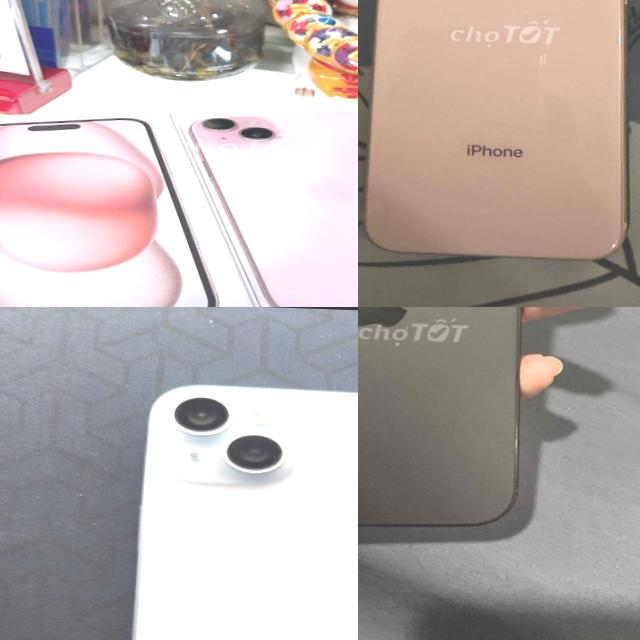gen_14: (358, 307, 551, 546)
gen_15: (92, 355, 358, 640), (167, 105, 358, 307)
gen_7_8: (358, 0, 640, 267)
